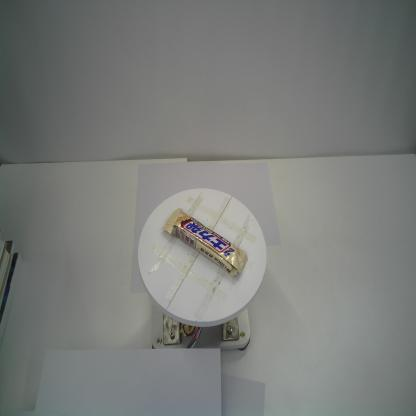Chocolate: (162, 206, 247, 279)
